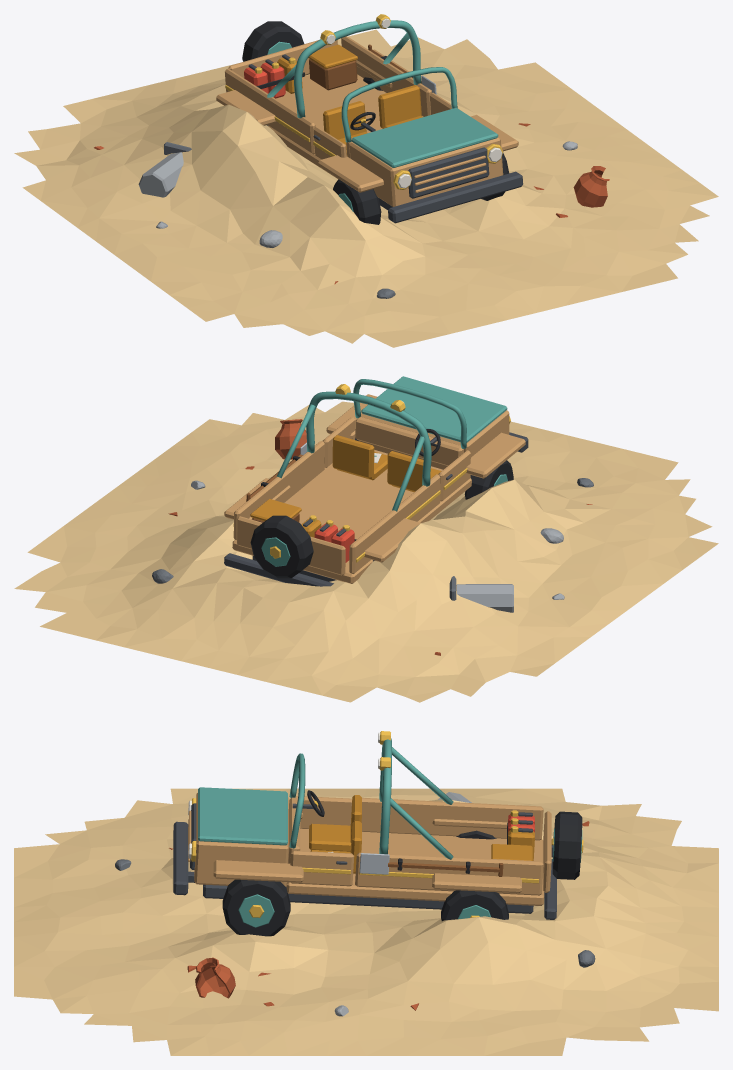
The model's file is desert-explorer-truck.glb.
3 views of the same model, one above another, from view 1: azimuth 30°, elevation 25°; view 2: azimuth 150°, elevation 25°; view 3: azimuth 270°, elevation 25° (orthographic). The views are drawn at different scales.
Parts seen in each view (by area): view 1: Sand_Dune, Hood, Floor, Engine_Bay, Bumper_Front, BedWall_L, Grille, RollBar, BedWall_R, SpareWheel, SeatBack_R, Fender_FL (+10 smaller); view 2: Sand_Dune, Floor, Hood, SpareWheel, BedWall_L, BedWall_R, Dash, RollBar, Tailgate, SeatBack_R, Engine_Bay, Fender_FL (+11 smaller); view 3: Sand_Dune, Floor, Hood, BedWall_L, BedWall_R, Engine_Bay, Wheel_FR, Chassis, SpareWheel, Door_R, Fender_FR, Fender_RR (+15 smaller).
Part boxes in pixels (x1=…): Sand_Dune: x1=14, y1=29, x2=718, y2=347; Hood: x1=351, y1=107, x2=498, y2=167; Floor: x1=268, y1=74, x2=423, y2=178; Engine_Bay: x1=349, y1=137, x2=503, y2=206; Bumper_Front: x1=388, y1=171, x2=523, y2=223; BedWall_L: x1=225, y1=68, x2=315, y2=154; Grille: x1=408, y1=147, x2=489, y2=198; RollBar: x1=294, y1=20, x2=421, y2=118; BedWall_R: x1=341, y1=36, x2=431, y2=116; SpareWheel: x1=242, y1=21, x2=304, y2=61; SeatBack_R: x1=378, y1=85, x2=421, y2=128; Fender_FL: x1=318, y1=155, x2=383, y2=192; Sand_Dune: x1=14, y1=401, x2=718, y2=702; Floor: x1=232, y1=450, x2=471, y2=583; Hood: x1=361, y1=376, x2=507, y2=442; SpareWheel: x1=250, y1=515, x2=313, y2=578; BedWall_L: x1=349, y1=474, x2=440, y2=573; BedWall_R: x1=233, y1=441, x2=324, y2=540; Dash: x1=355, y1=417, x2=463, y2=465; RollBar: x1=306, y1=391, x2=431, y2=486; Tailgate: x1=237, y1=516, x2=345, y2=575; SeatBack_R: x1=332, y1=435, x2=374, y2=478; Engine_Bay: x1=358, y1=410, x2=509, y2=469; Fender_FL: x1=466, y1=432, x2=525, y2=478; Sand_Dune: x1=14, y1=788, x2=718, y2=1055; Floor: x1=286, y1=828, x2=544, y2=905; Hood: x1=198, y1=787, x2=287, y2=845; BedWall_L: x1=361, y1=797, x2=543, y2=840; BedWall_R: x1=355, y1=852, x2=543, y2=895; Engine_Bay: x1=194, y1=793, x2=288, y2=886; Wheel_FR: x1=222, y1=879, x2=290, y2=936; Chassis: x1=203, y1=884, x2=533, y2=913; SpareWheel: x1=552, y1=811, x2=582, y2=879; Door_R: x1=290, y1=850, x2=354, y2=886; Fender_FR: x1=213, y1=860, x2=303, y2=882; Fender_RR: x1=432, y1=873, x2=521, y2=893.
Size of the model in its own units: 26 by 8 by 29.
